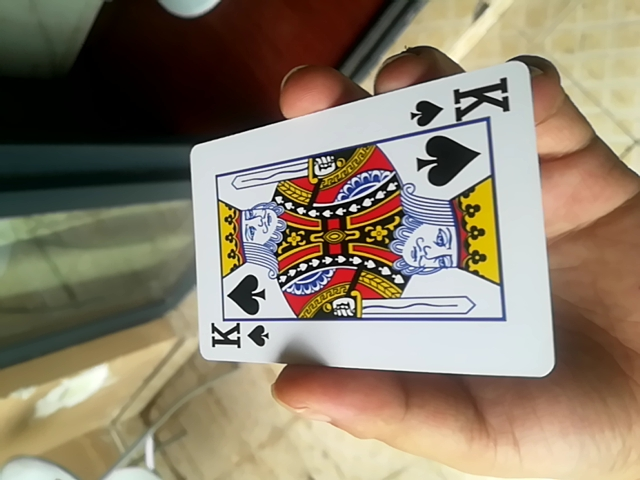ht k: (186, 58, 552, 378)
